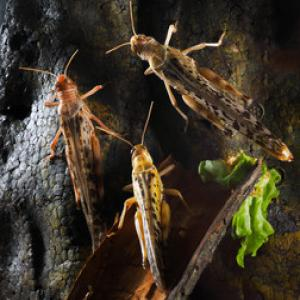locust: (124, 18, 300, 159), (35, 60, 123, 239)
